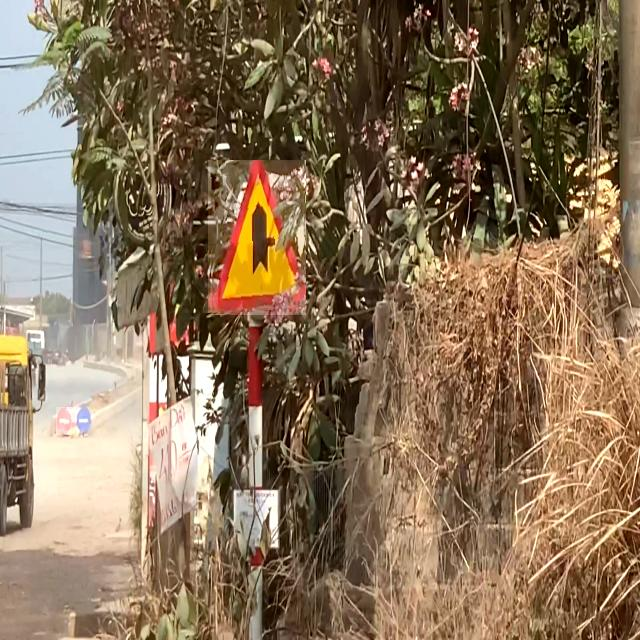45: (208, 160, 306, 315)
bien_chi_dan: (56, 407, 72, 435)
